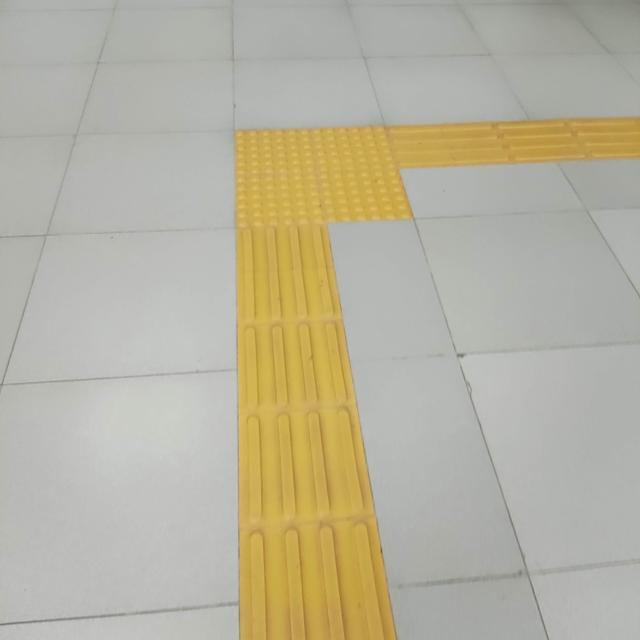kanan: (172, 74, 538, 276)
